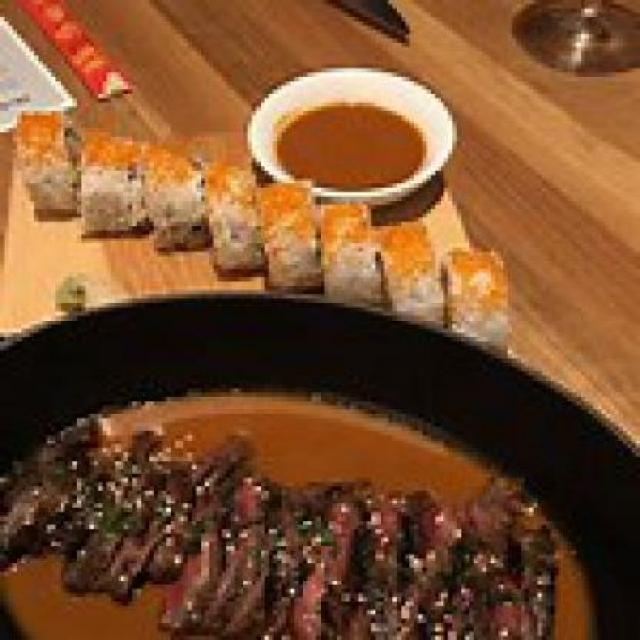steak: (5, 376, 606, 636)
sushi: (5, 98, 512, 354)
